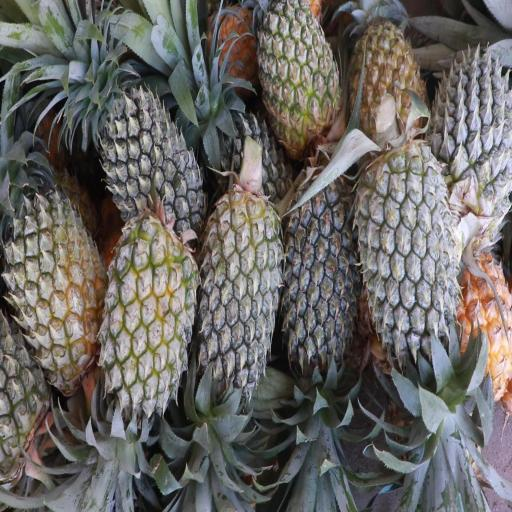------------------------------: (10, 185, 103, 383), (106, 220, 197, 417), (262, 0, 339, 154), (350, 7, 424, 158)
Pineapple - v8 v1: (451, 259, 512, 396)
